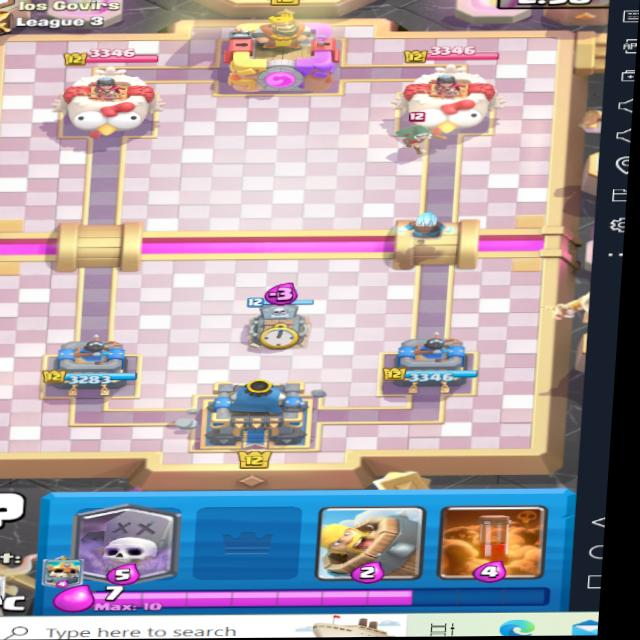bandit: (382, 115, 449, 162)
